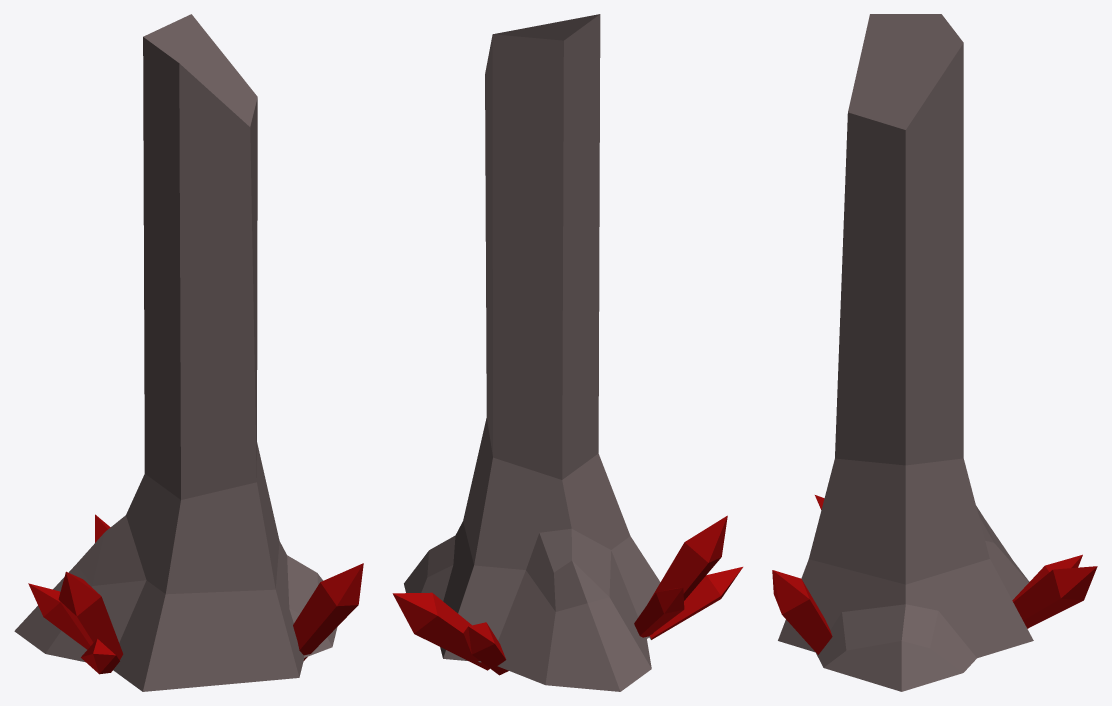
The model's file is Stone62.fbx.
The picture shows the model from 3 angles, left to right: view 1: azimuth 30°, elevation 25°; view 2: azimuth 150°, elevation 25°; view 3: azimuth 270°, elevation 25°; orthographic projection.
Visible parts, largest first — view 1: StonesLowPoly2:pCone14; view 2: StonesLowPoly2:pCone14; view 3: StonesLowPoly2:pCone14.
Boxes of the visible parts, x1,y1,x2,y2 form: StonesLowPoly2:pCone14: (14,14,363,691); StonesLowPoly2:pCone14: (392,14,742,691); StonesLowPoly2:pCone14: (772,14,1097,691).
Size of the model in its own units: 762 by 1495 by 725.
